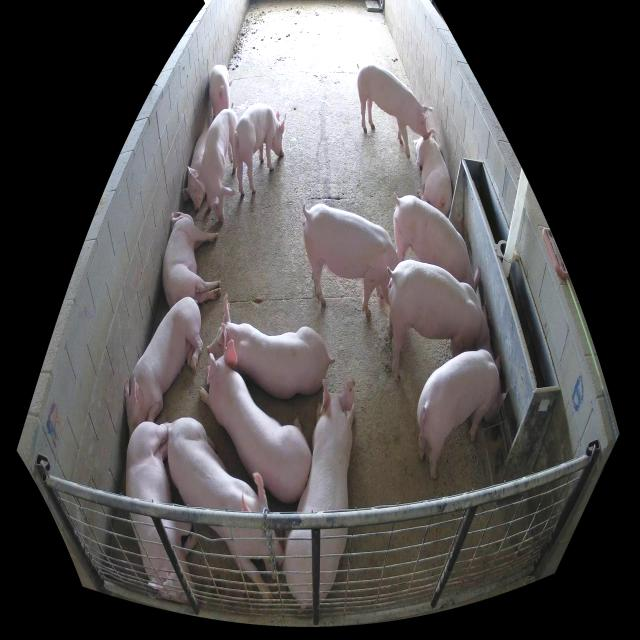pig: (168, 416, 282, 600), (198, 340, 312, 504), (282, 377, 356, 609), (126, 416, 204, 605), (206, 291, 329, 397), (387, 259, 490, 381), (417, 348, 509, 481), (303, 205, 399, 319), (125, 299, 203, 438), (394, 196, 480, 295), (357, 63, 433, 158), (162, 211, 221, 307), (232, 105, 287, 196), (200, 108, 238, 222), (413, 129, 452, 215), (182, 129, 208, 213), (209, 63, 232, 118)
